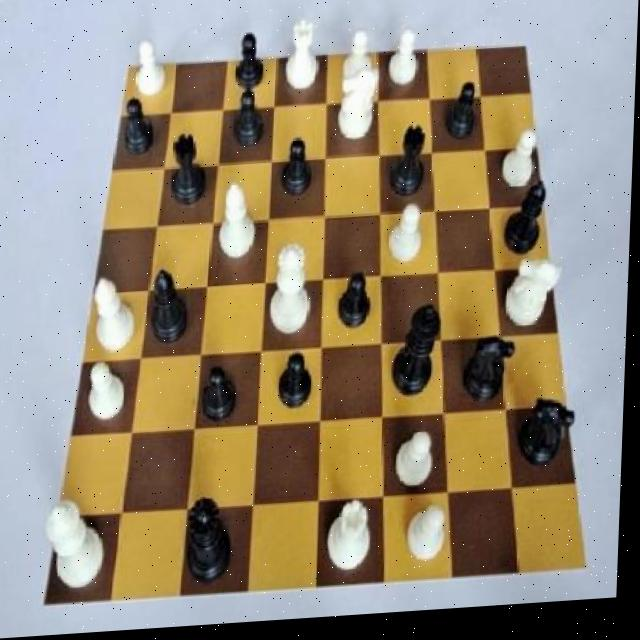bishop: (500, 177, 554, 274), (147, 259, 195, 354)
black-bishop: (391, 304, 449, 416)
black-king: (516, 398, 583, 485), (463, 335, 522, 418)
black-knight: (198, 354, 248, 436), (111, 93, 163, 167), (435, 82, 483, 156), (276, 344, 322, 417), (335, 271, 379, 342), (230, 24, 271, 100), (228, 89, 272, 159), (279, 138, 320, 207)
black-pawn: (183, 494, 243, 593)
black-queen: (384, 123, 439, 217), (162, 127, 216, 218)
black-rook: (94, 263, 141, 359), (215, 183, 261, 275)
white-bishop: (45, 485, 118, 603)
white-king: (506, 256, 567, 338), (331, 74, 383, 154)
white-knight: (84, 355, 139, 437), (398, 504, 457, 580), (391, 427, 444, 503), (123, 30, 170, 110), (384, 200, 429, 280), (495, 134, 543, 204), (337, 23, 380, 97), (382, 32, 421, 106)
white-pawn: (268, 243, 319, 351)
white-queen: (320, 501, 380, 588), (279, 18, 328, 102)
